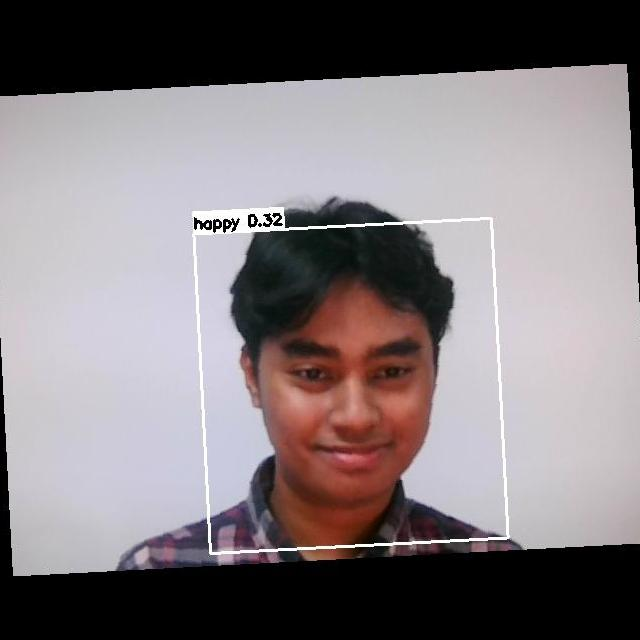Happy: (259, 311, 449, 478)
